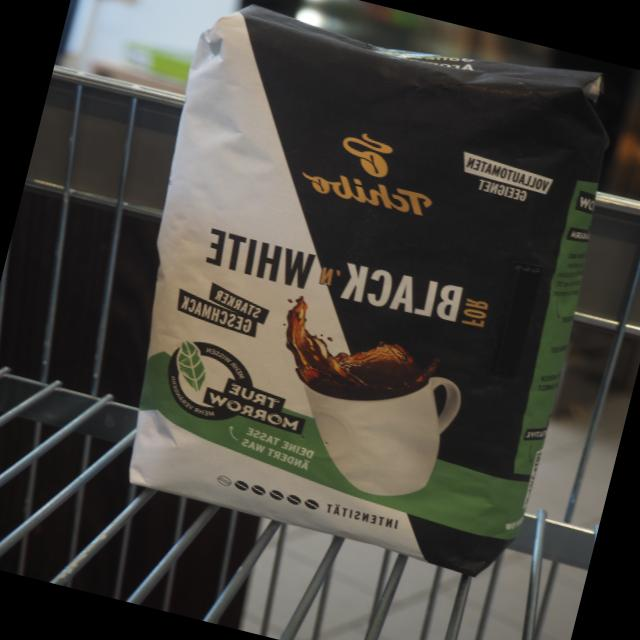BW Bohne: (69, 0, 640, 598)
